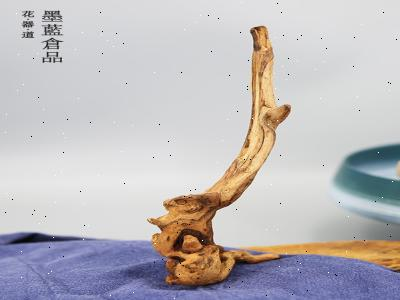Root: (148, 26, 290, 286)
